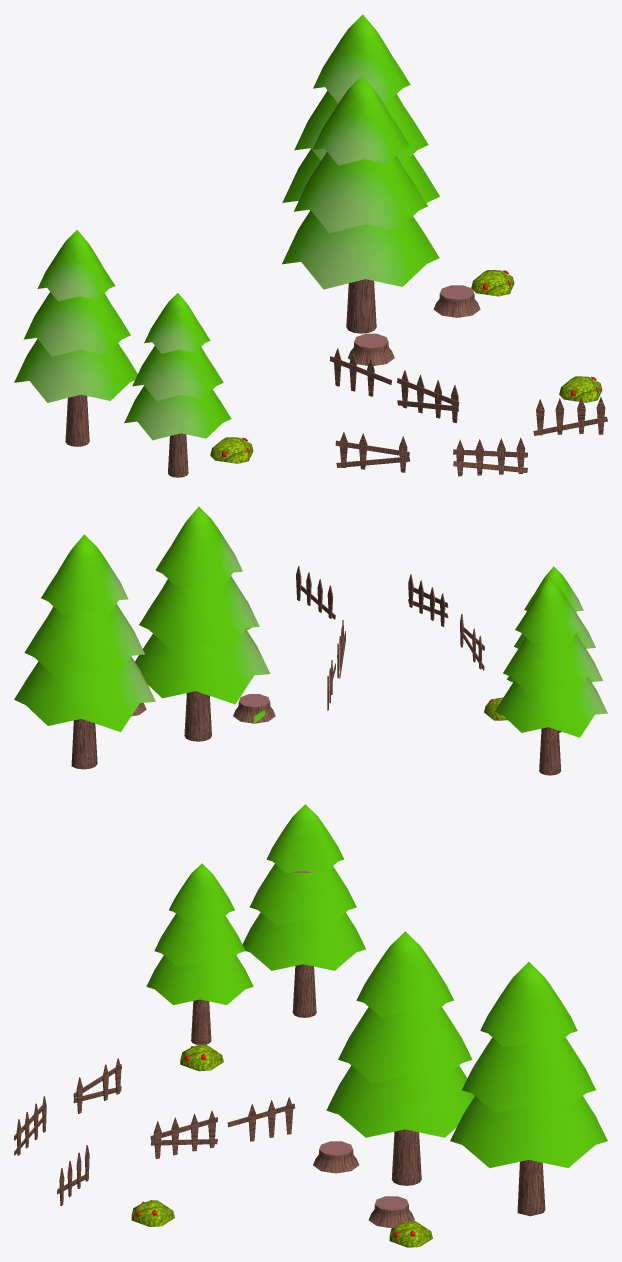
3 renders of one model, top to bottom at view 1: azimuth 30°, elevation 25°; view 2: azimuth 150°, elevation 25°; view 3: azimuth 270°, elevation 25°, orthographic. The views are drawn at different scales.
Visible parts, largest first — view 1: オブジェクト001; view 2: オブジェクト001; view 3: オブジェクト001.
Part boxes in pixels (left/top/right/bottom): オブジェクト001: left=14, top=14, right=607, bottom=477; オブジェクト001: left=14, top=506, right=607, bottom=775; オブジェクト001: left=14, top=804, right=607, bottom=1247.
Bounding box in the file's own units: 51.97 × 23.28 × 50.45.
